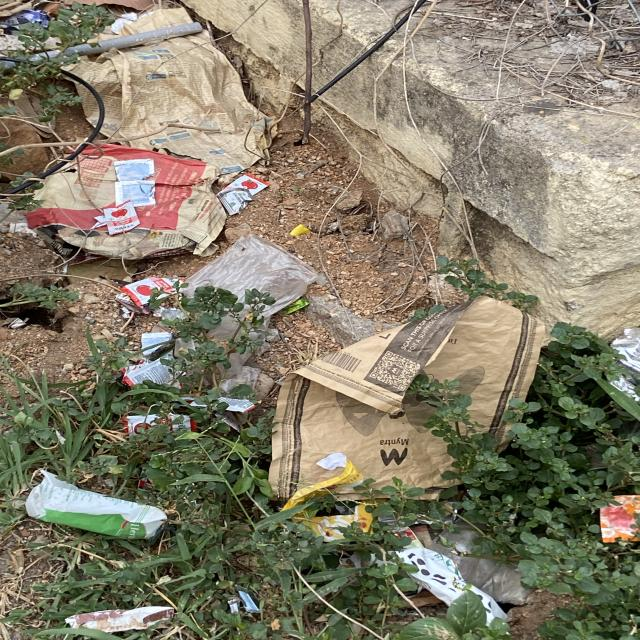giay: (269, 297, 545, 500), (71, 30, 269, 174), (25, 144, 225, 259)
giay_goi: (64, 607, 174, 634), (216, 174, 269, 215), (113, 158, 155, 207), (601, 496, 640, 543), (120, 277, 182, 306), (124, 359, 172, 385)
goi_nhua_nho: (24, 471, 166, 540)
nhua: (182, 235, 325, 318)
